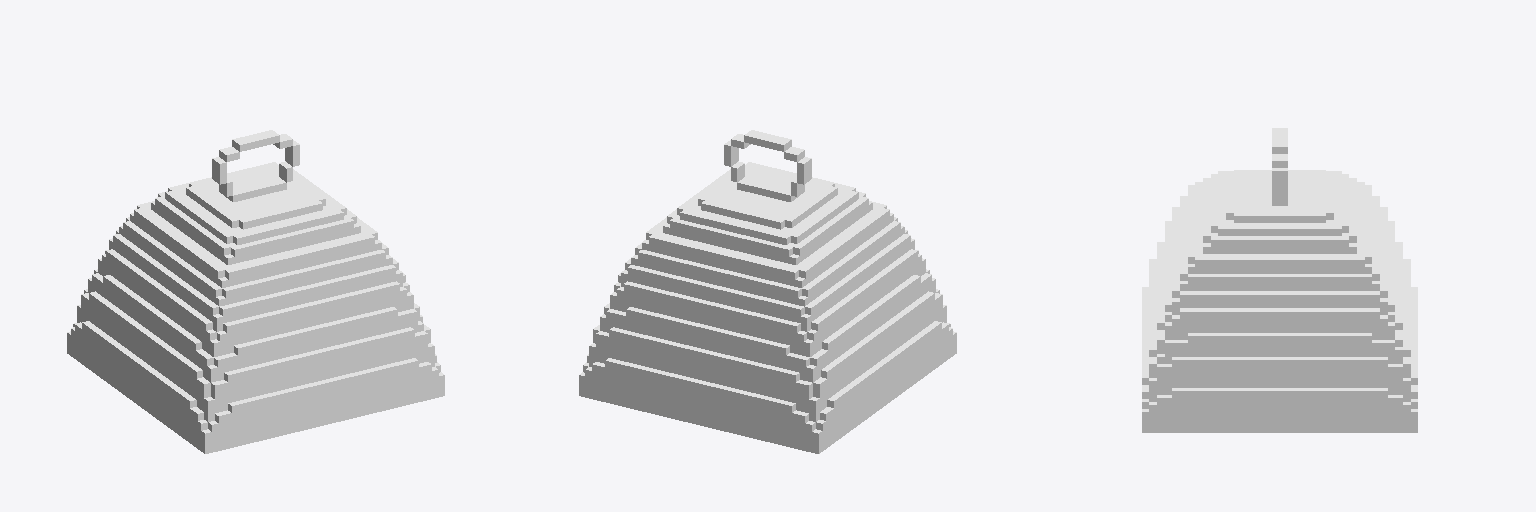
Rendered from KG_Enemy.obj.
3 views of the same model, side by side, from view 1: azimuth 30°, elevation 25°; view 2: azimuth 150°, elevation 25°; view 3: azimuth 270°, elevation 25° (orthographic).
Visible parts, largest first — view 1: object 1; view 2: object 1; view 3: object 1.
Part boxes in pixels (left/top/right/bottom): object 1: left=67, top=130, right=444, bottom=453; object 1: left=579, top=130, right=956, bottom=453; object 1: left=1142, top=128, right=1417, bottom=432.
Bounding box in the file's own units: 3.6 × 3.4 × 3.6.